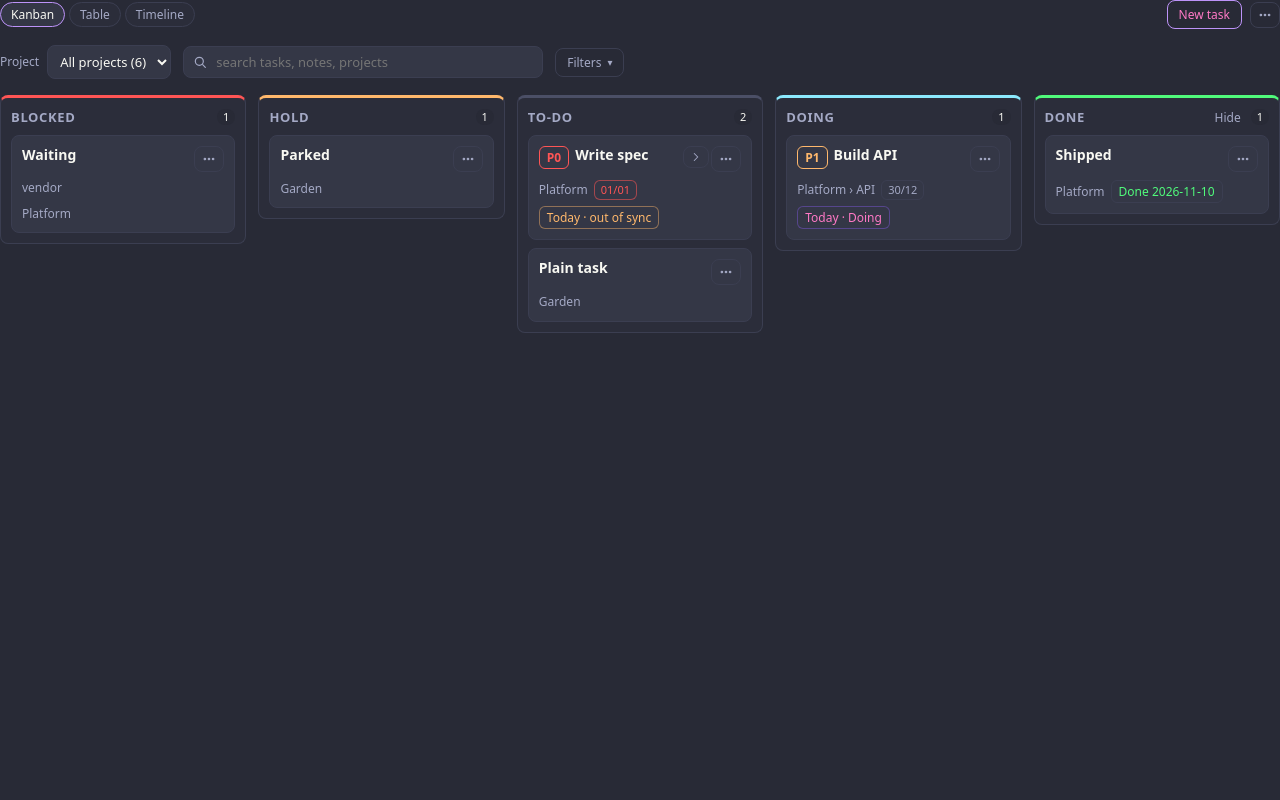
Test: BoardView kanban › opens the drawer when a card is clicked but not when a control inside is
Expected: the text "Write spec" is shown, [575, 146, 648, 164]
Click the button named "Show details of Write spec" at coordinates (696, 157), box [683, 146, 709, 168]
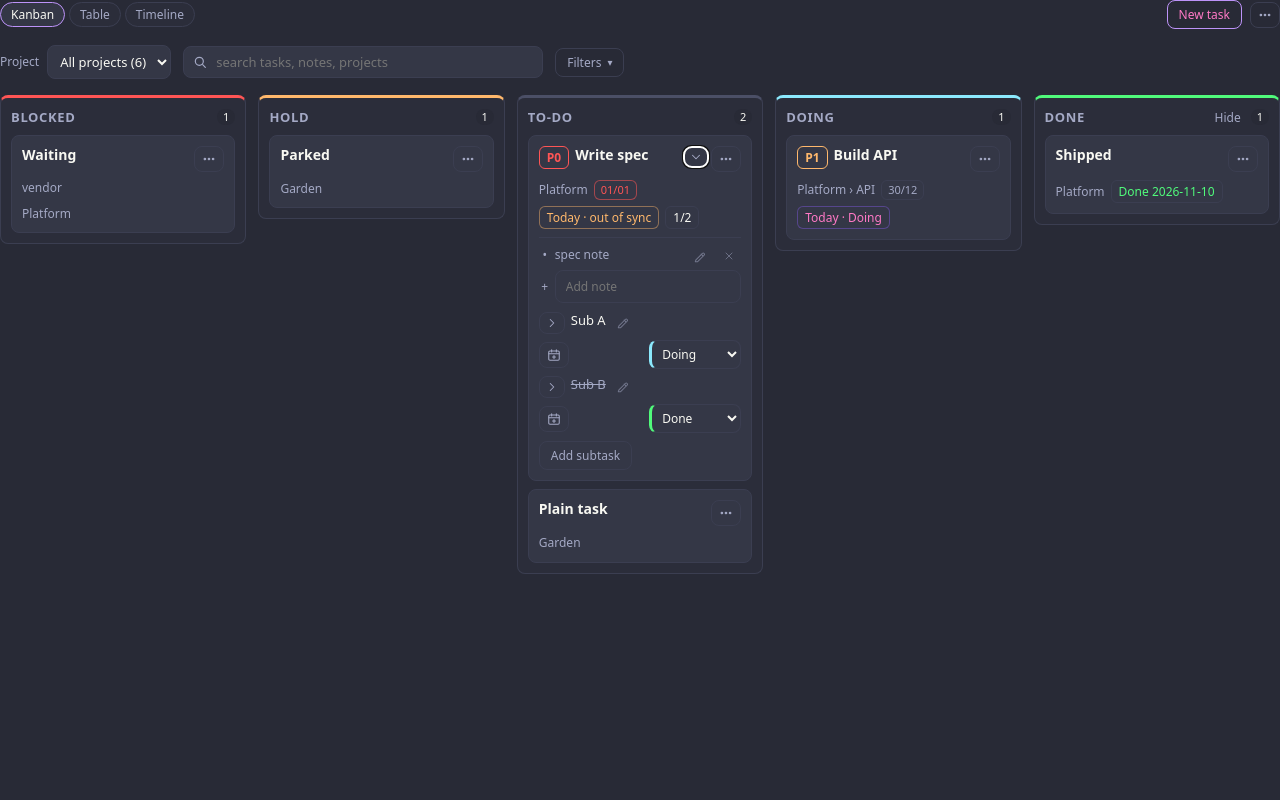
Click the text "Write spec" at coordinates (612, 154), box [575, 145, 648, 164]
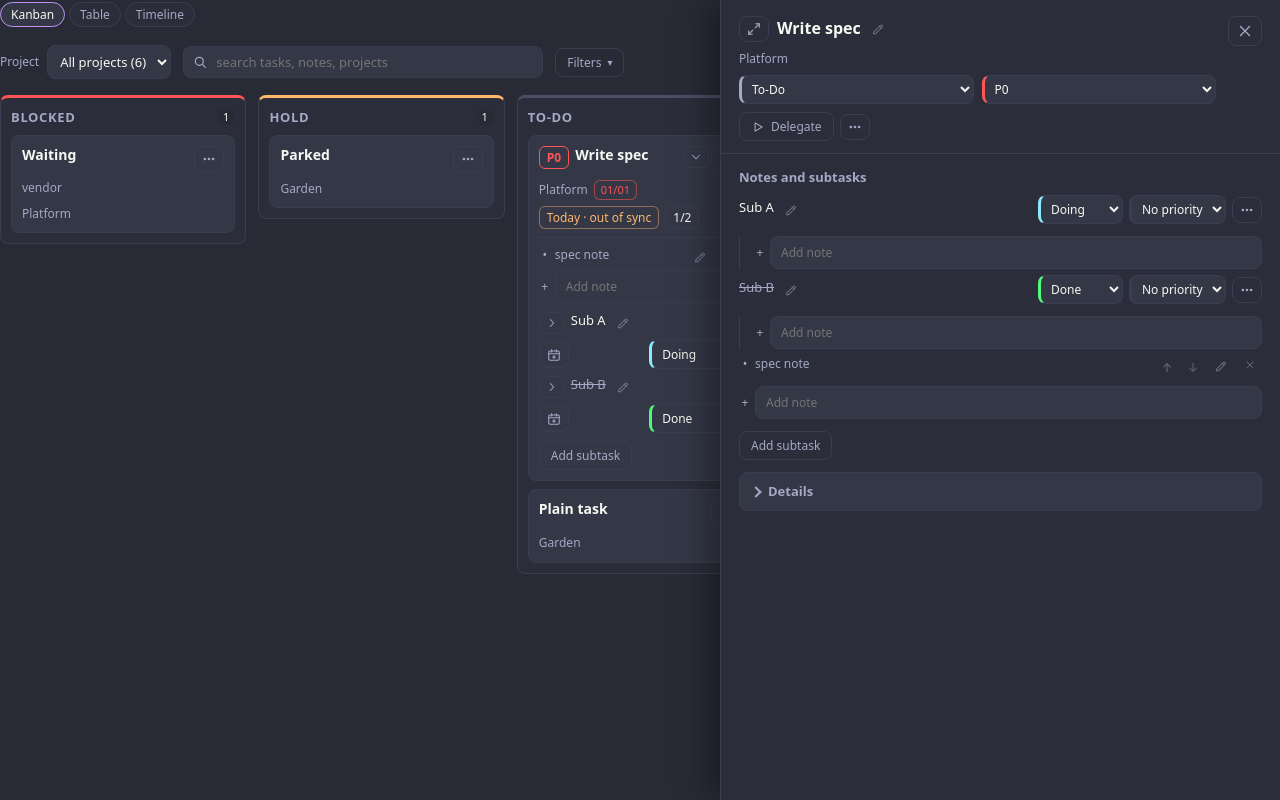
Now the dialog named "Details of Write spec" is shown, box [720, 0, 1279, 799]
